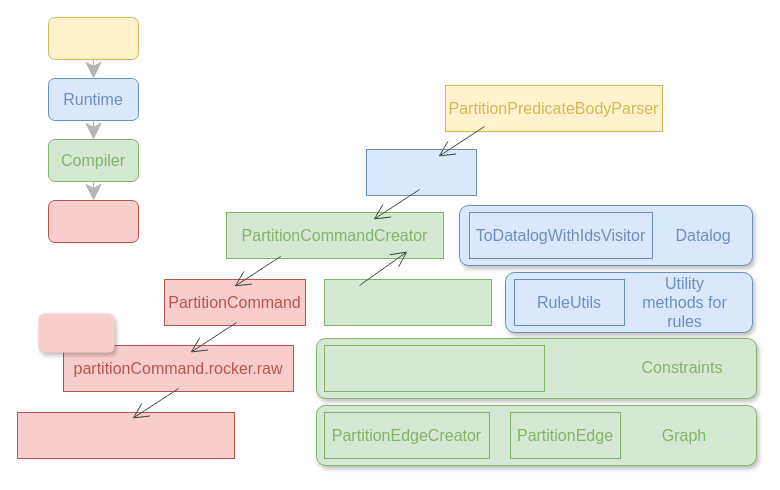
The diagram is 780 pixels wide and 490 high, and some of its shapes have lost their labels. The shapes that lost their labels are listed below. From the top down, each one's centre as x and y in pixels, then its label:
At pixel 93 38: "DSL".
At pixel 421 172: "PartitionRule".
At pixel 93 221: "Database".
At pixel 408 302: "PartitionRuleBuilder".
At pixel 77 334: "Template".
At pixel 434 368: "PartitionConstraintDerivation".
At pixel 125 435: "OrderingComparatorCreator".
